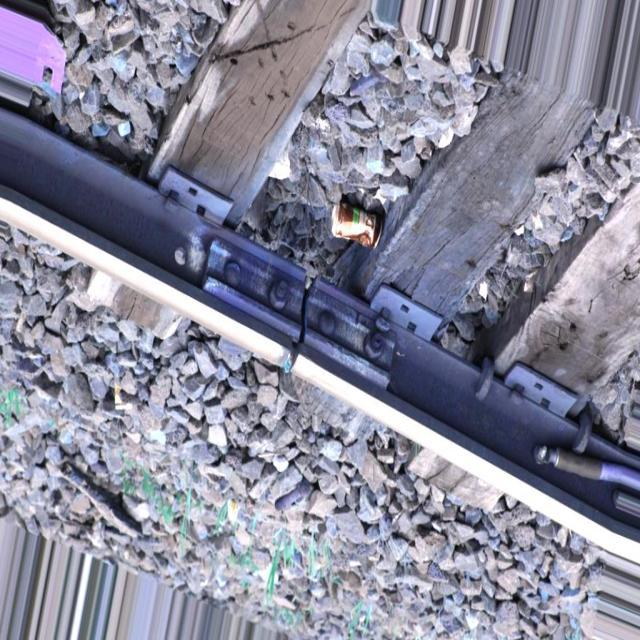Good Joint: (179, 204, 402, 432)
Missing Dogscrew: (407, 322, 416, 332), (197, 206, 205, 216)
